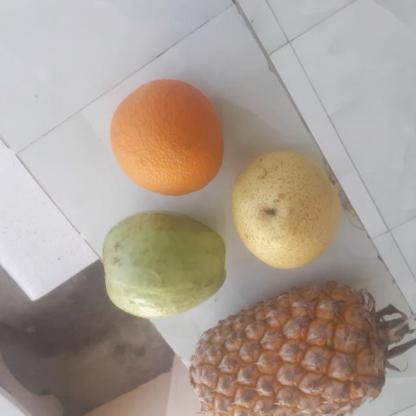guava: (104, 212, 234, 314)
orange: (109, 81, 230, 195)
pear: (230, 154, 343, 268)
pineapple: (192, 283, 403, 415)
